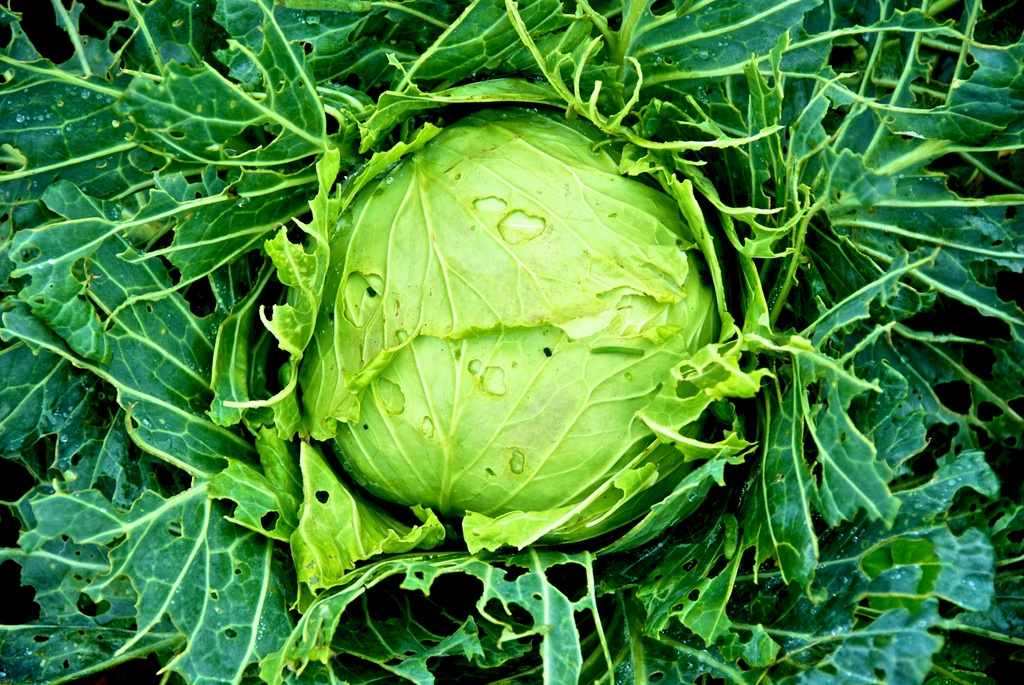Cabbage: (323, 104, 723, 546)
